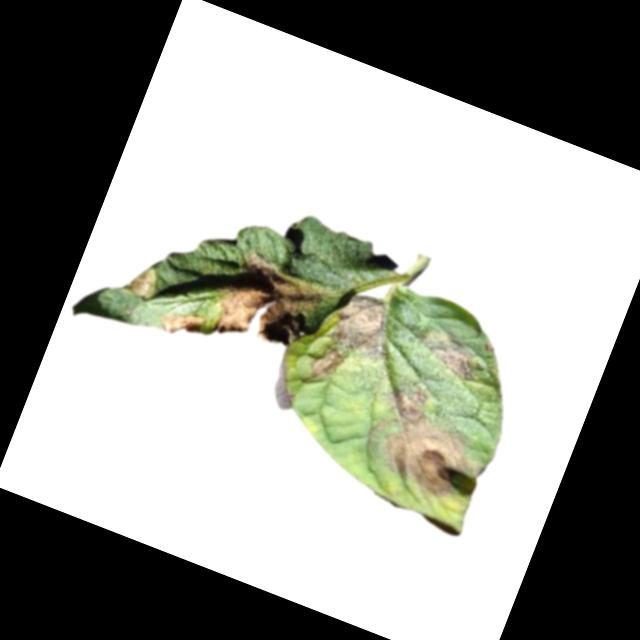Late_blight: (356, 377, 491, 504), (204, 243, 334, 367), (325, 285, 406, 364), (409, 318, 489, 385), (155, 301, 208, 345), (121, 257, 164, 303), (307, 344, 346, 386)
